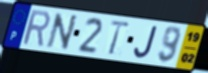2: (77, 17, 104, 54)
9: (156, 25, 181, 65)
J: (133, 24, 160, 60)
N: (45, 12, 80, 52)
R: (21, 9, 51, 48)
T: (108, 19, 132, 56)
